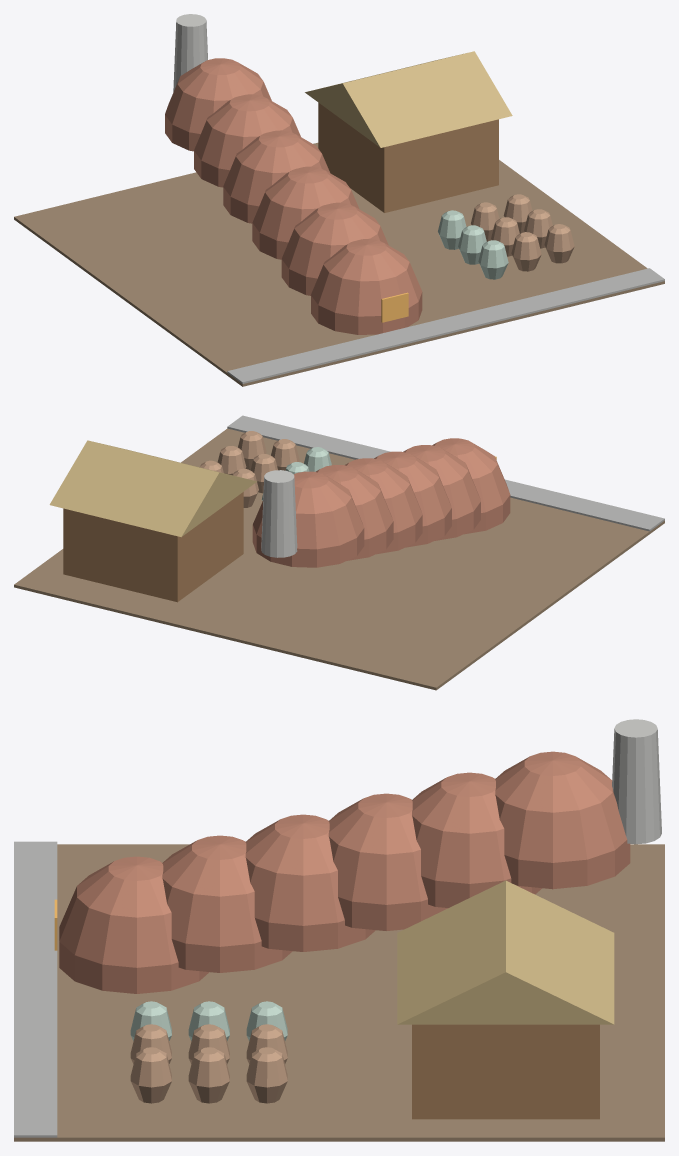
Rendered from kiln.fbx.
3 views of the same model, one above another, from view 1: azimuth 30°, elevation 25°; view 2: azimuth 150°, elevation 25°; view 3: azimuth 270°, elevation 25° (orthographic). The views are drawn at different scales.
Parts seen in each view (by area): view 1: kiln; view 2: kiln; view 3: kiln.
Part boxes in pixels (left/top/right/bottom): kiln: left=14, top=14, right=664, bottom=386; kiln: left=14, top=415, right=664, bottom=690; kiln: left=14, top=719, right=664, bottom=1141.
Bounding box in the file's own units: 960 × 360 × 900.
